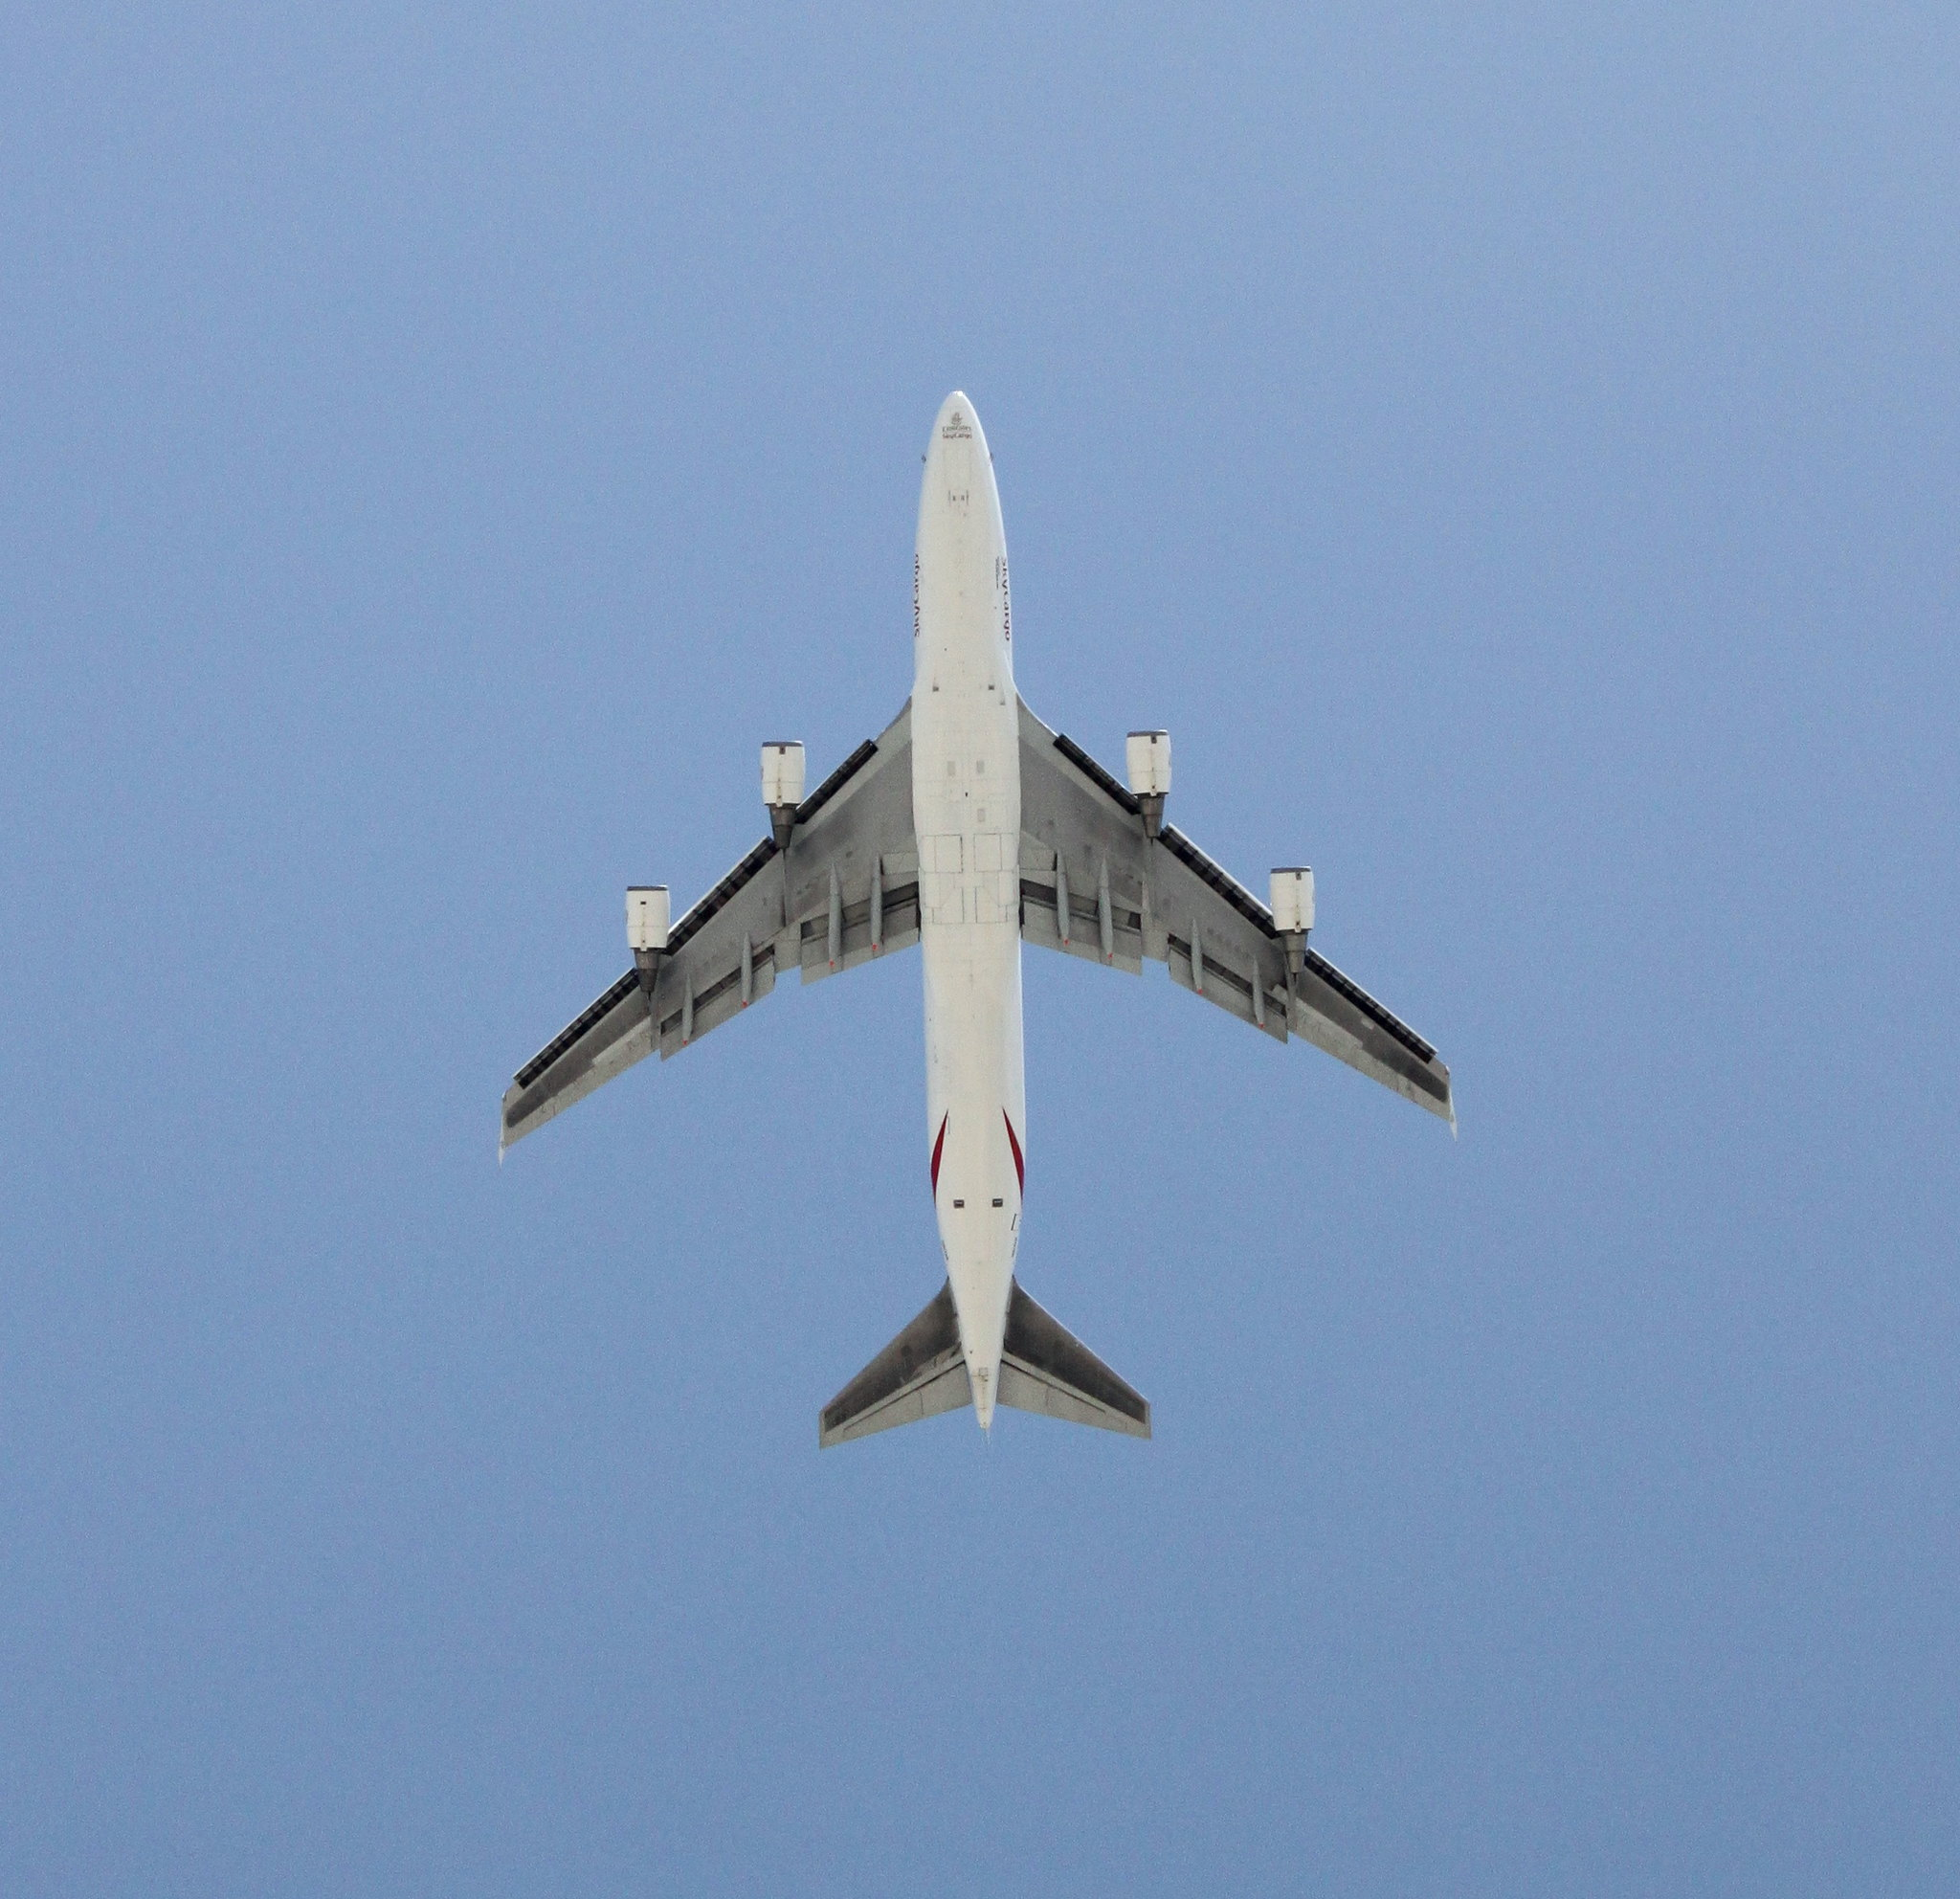aeroplane: (492, 389, 1466, 1453)
